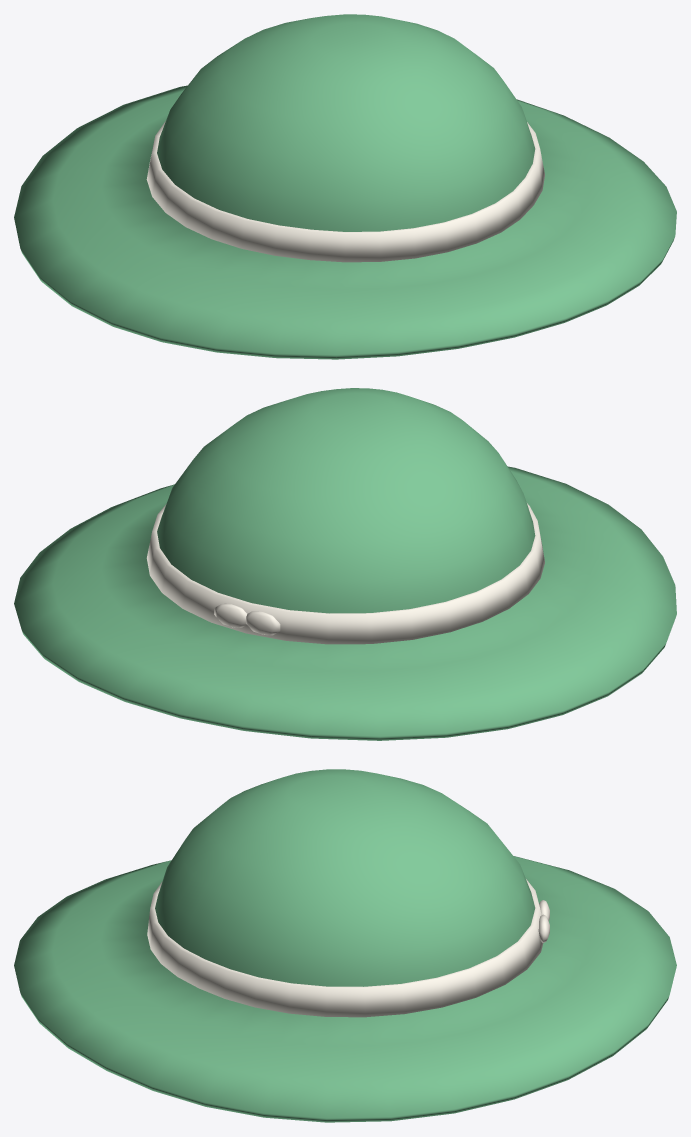
The model's file is gorro_pamela.glb.
The picture shows the model from 3 angles, top to bottom: view 1: azimuth 30°, elevation 25°; view 2: azimuth 150°, elevation 25°; view 3: azimuth 270°, elevation 25°; orthographic projection.
Parts seen in each view (by area): view 1: pieza; view 2: pieza; view 3: pieza.
Part boxes in pixels (bbox=[...]): pieza: bbox=[14, 14, 676, 359]; pieza: bbox=[14, 388, 676, 740]; pieza: bbox=[14, 769, 676, 1122].
Bounding box in the file's own units: 1.78 × 0.5749 × 1.8.
